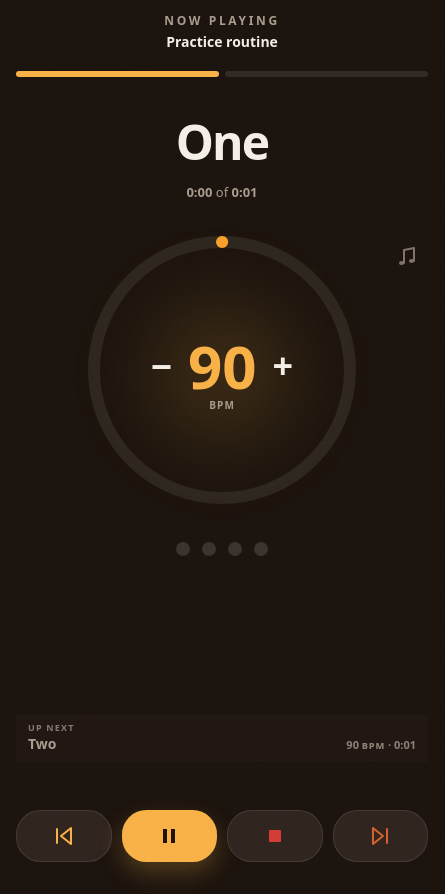
it: SessionPlayer › disposes a pending Tempo hold when the Current phase becomes Quick Rest
This screenshot has width=445, height=894.
Press the mouse on the button named "Increase tempo" at (283, 366), box x1=260 y1=336 x2=305 y2=396
Wait 2500 ms
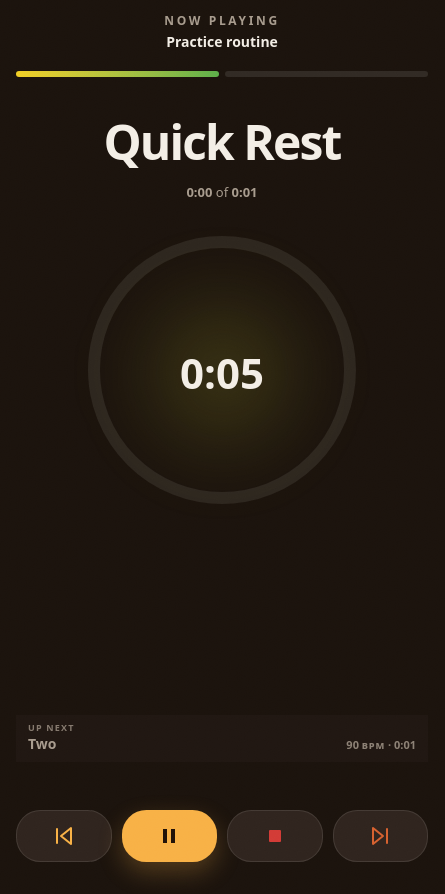
Now the heading "Quick Rest" is shown, box x1=104 y1=109 x2=340 y2=174
